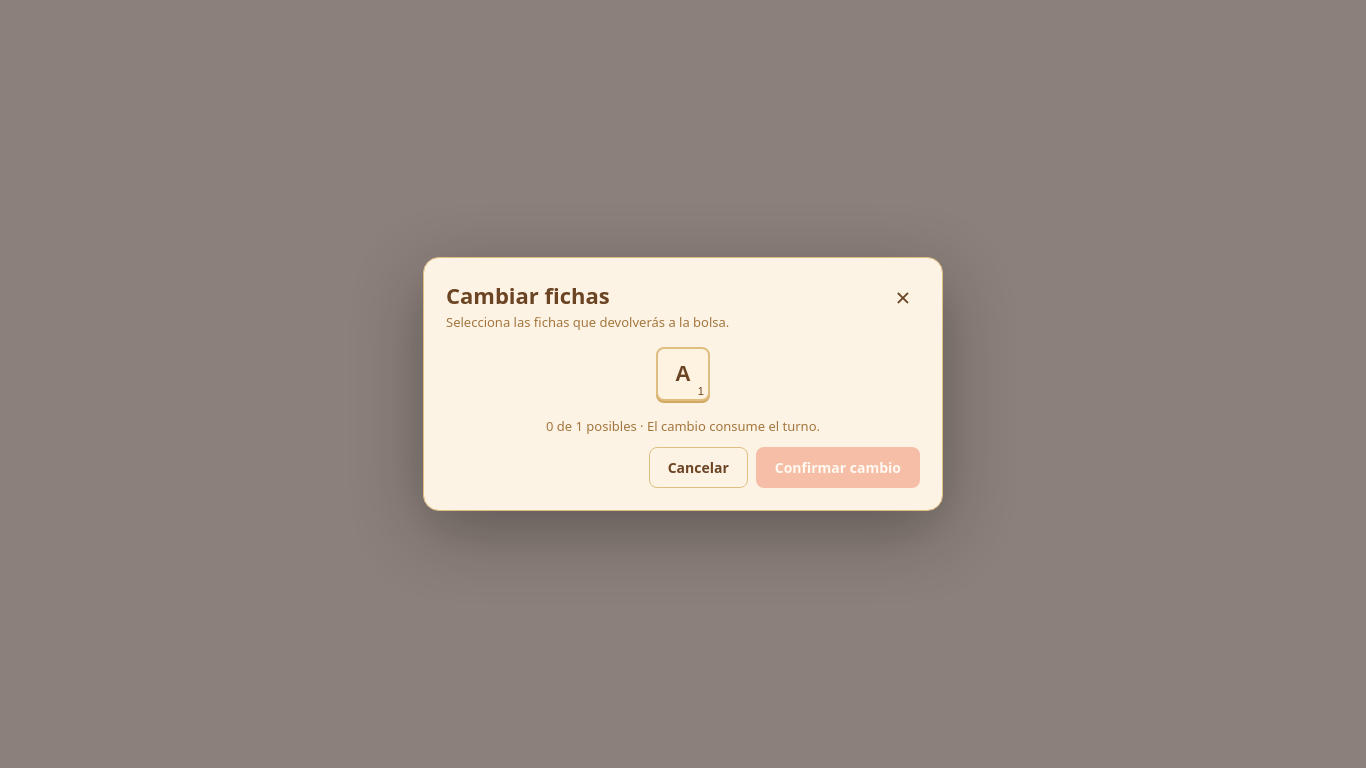
Scenario: modal de cambio de fichas › permite volver al selector sin cambiar fichas
The width and height of the screenshot is (1366, 768).
Step 1. Click the button named "Cambiar ficha A" → (683, 374), box [656,347,710,401]
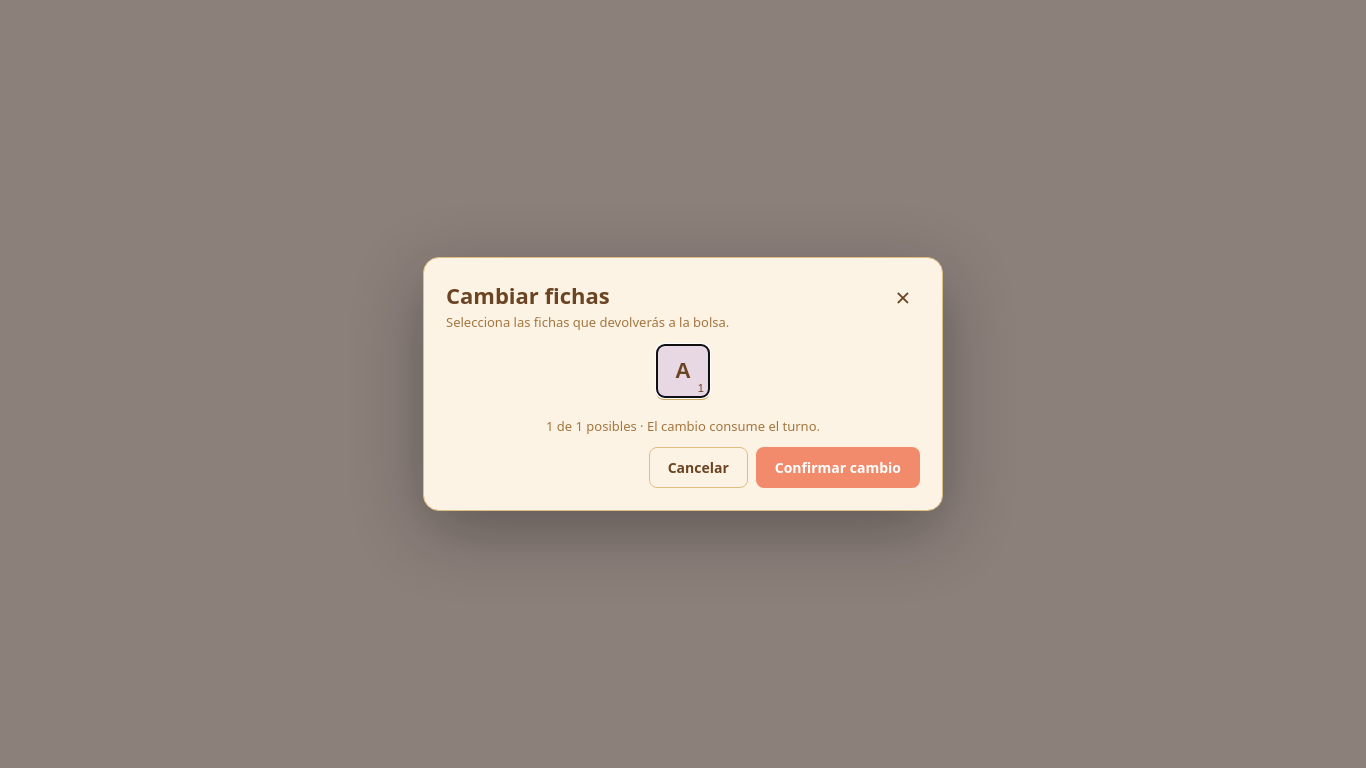
Step 2. Click the button "Confirmar cambio" → (838, 468), box [756,447,920,488]
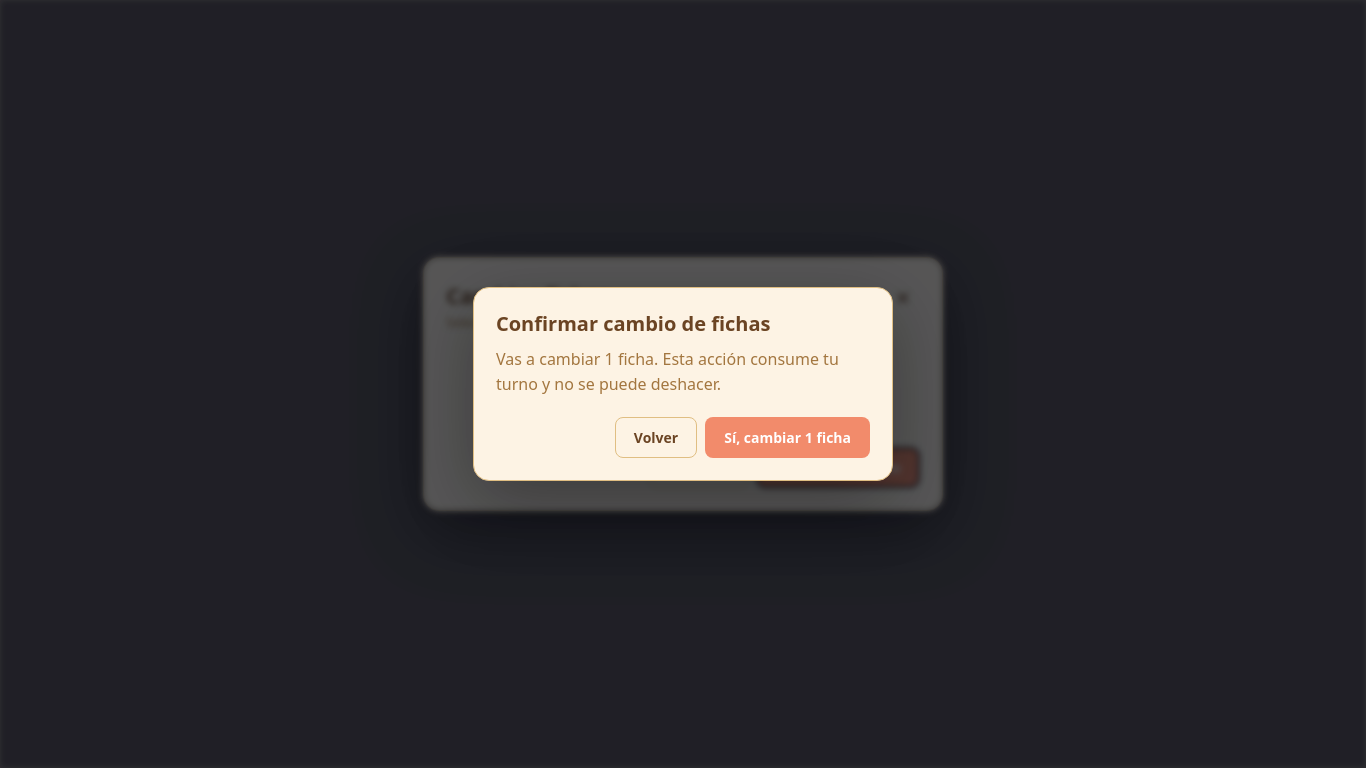
Step 3. Click the button "Volver" → (656, 437), box [615,417,697,458]
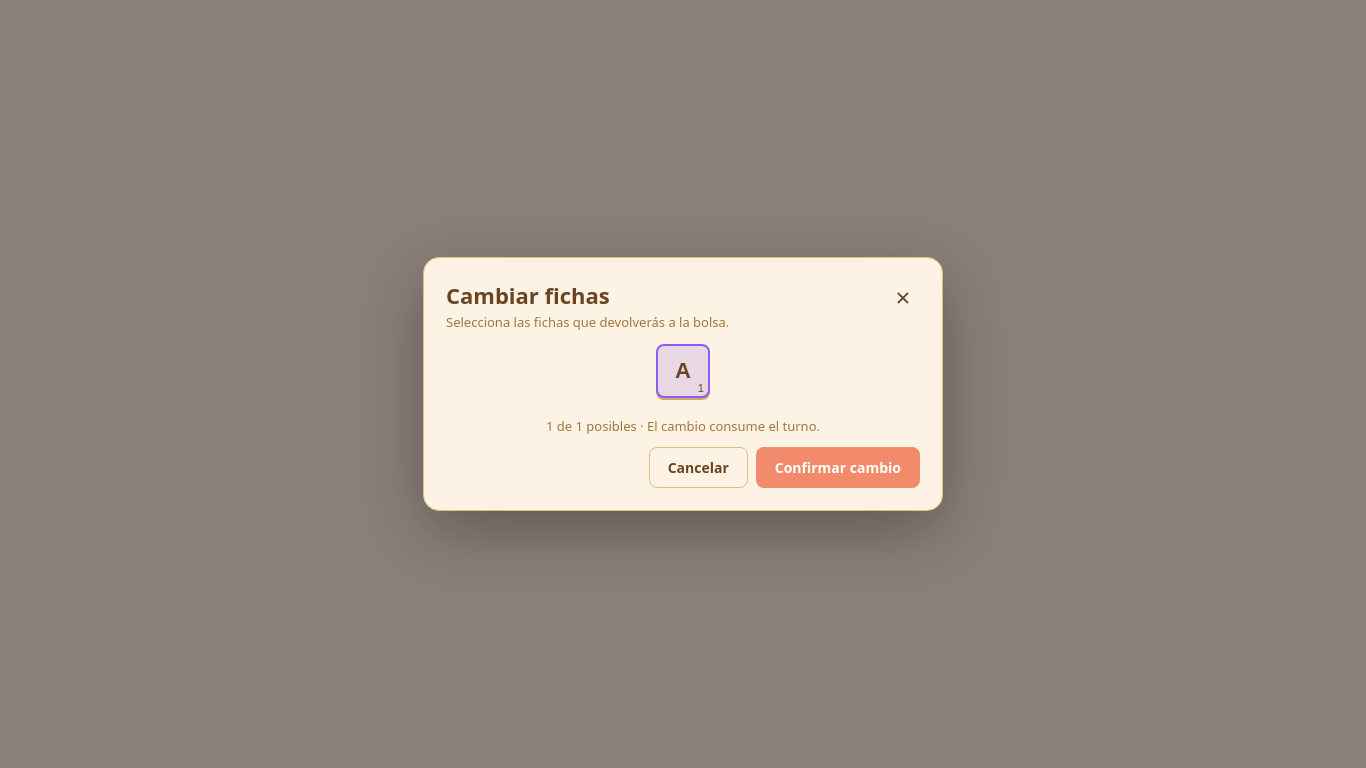
Now the heading "Confirmar cambio de fichas" is gone
